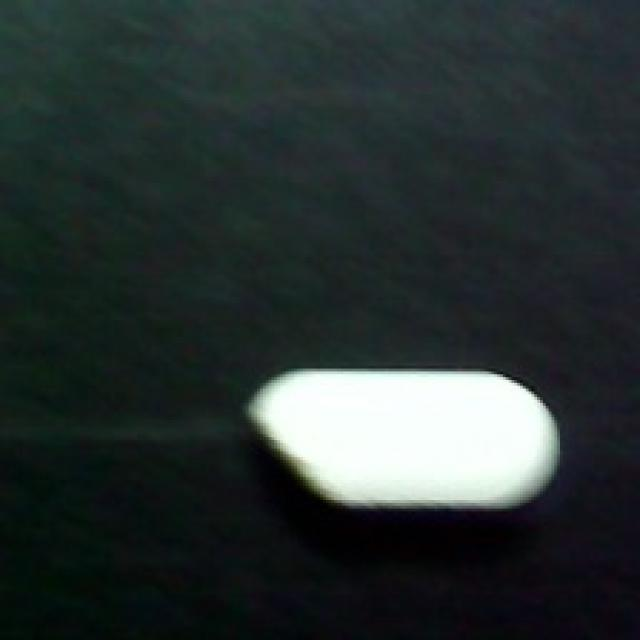defected: (243, 360, 566, 514)
